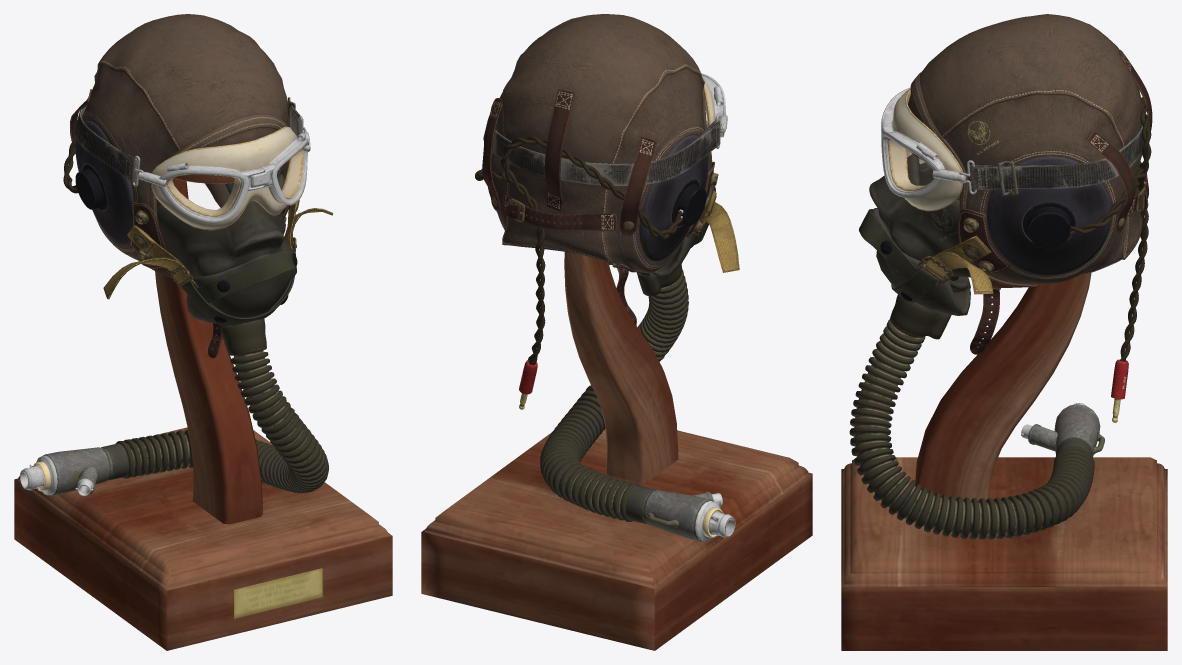
File: helmet_flight.glb
The picture shows the model from 3 angles, left to right: view 1: azimuth 30°, elevation 25°; view 2: azimuth 150°, elevation 25°; view 3: azimuth 270°, elevation 25°; orthographic projection. The views are drawn at different scales.
Parts seen in each view (by area): view 1: RubberWood_low, LeatherParts_low, MetalParts_low, GlassPlastic_low, Hose_low; view 2: RubberWood_low, LeatherParts_low, Hose_low, MetalParts_low, GlassPlastic_low; view 3: RubberWood_low, LeatherParts_low, Hose_low, GlassPlastic_low, MetalParts_low.
Part boxes in pixels (bbox=[...]): RubberWood_low: bbox=[14, 100, 392, 650]; LeatherParts_low: bbox=[70, 14, 290, 358]; MetalParts_low: bbox=[20, 97, 322, 618]; GlassPlastic_low: bbox=[75, 120, 304, 244]; Hose_low: bbox=[115, 346, 328, 493]; RubberWood_low: bbox=[421, 114, 812, 650]; LeatherParts_low: bbox=[482, 14, 714, 325]; Hose_low: bbox=[540, 270, 688, 521]; MetalParts_low: bbox=[492, 73, 735, 541]; GlassPlastic_low: bbox=[487, 76, 715, 261]; RubberWood_low: bbox=[841, 97, 1167, 650]; LeatherParts_low: bbox=[908, 14, 1152, 354]; Hose_low: bbox=[849, 317, 1094, 539]; GlassPlastic_low: bbox=[887, 88, 1110, 275]; MetalParts_low: bbox=[880, 87, 1146, 457].
Size of the model in its own units: 0.3666 by 0.716 by 0.3716.
6 materials, 6 textured.
